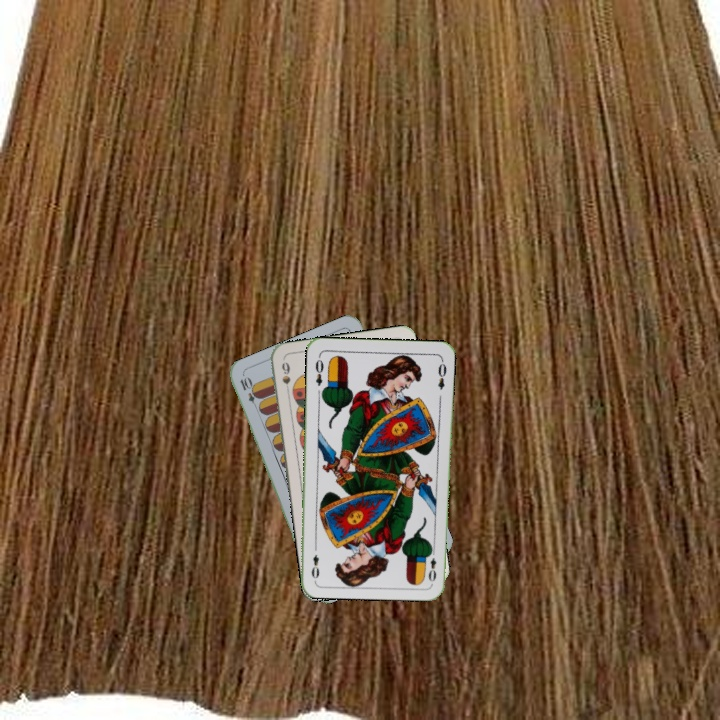E10: (236, 373, 262, 412)
EO: (424, 544, 439, 584), (311, 356, 326, 388)
S9: (278, 358, 293, 398)
